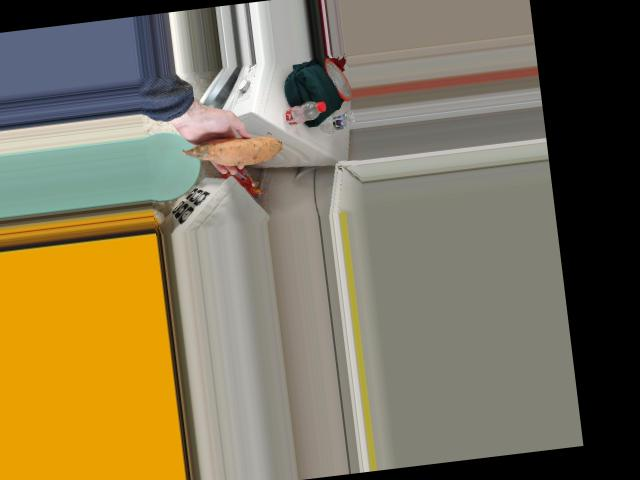sweet_potato: (201, 125, 292, 169)
